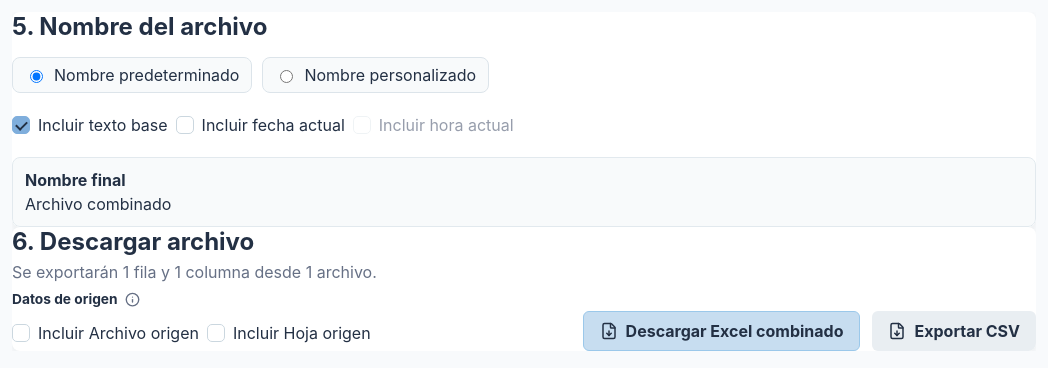
Test: CombineExportActions › renders compact naming options without sanitizer-only copy
Check: the heading "5. Nombre del archivo" is shown, box top-left (12, 12), bottom-right (268, 41)
Check: the heading "6. Descargar archivo" is shown, box top-left (12, 227), bottom-right (254, 256)
Hover over the text "Incluir hora actual" at (433, 125), box top-left (353, 115), bottom-right (514, 135)
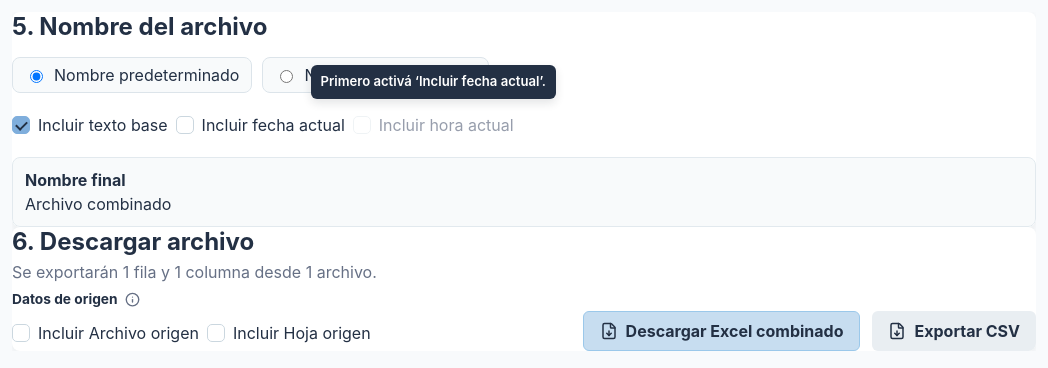
Check: the tooltip "Primero activá ‘Incluir fecha actual’." is shown, box top-left (310, 65), bottom-right (556, 99)
